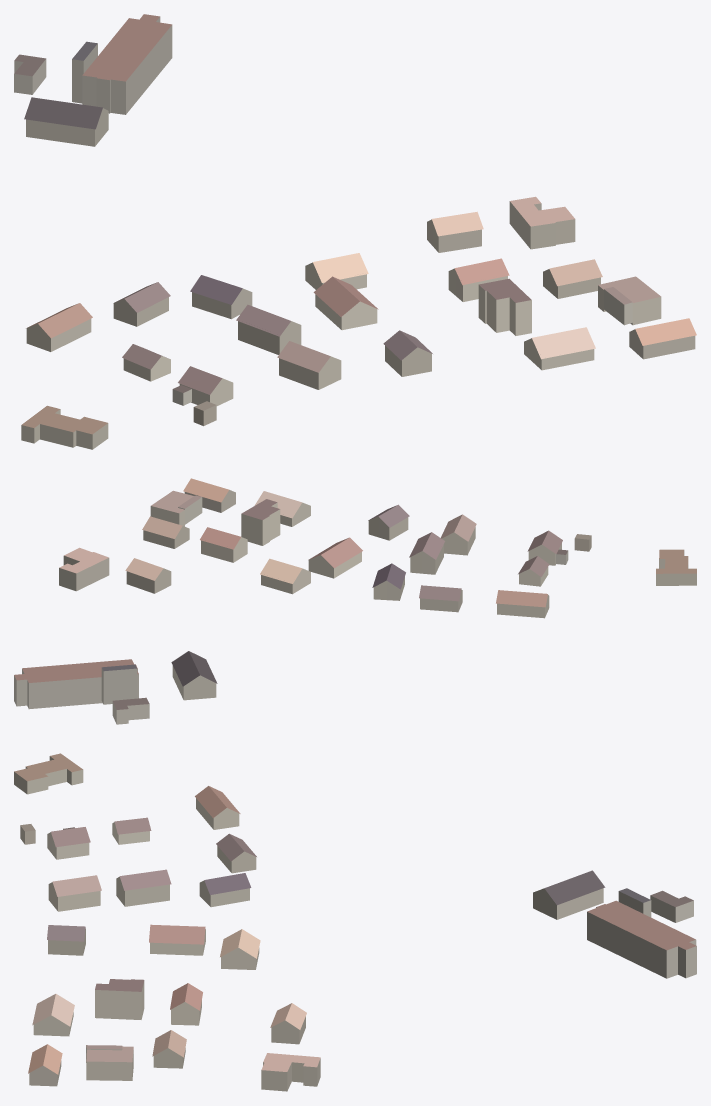
The picture shows the model from 3 angles, top to bottom: view 1: azimuth 30°, elevation 25°; view 2: azimuth 150°, elevation 25°; view 3: azimuth 270°, elevation 25°; orthographic projection. The views are drawn at different scales.
Visible parts, largest first — view 1: tuile; view 2: tuile; view 3: tuile.
Boxes of the visible parts, x1,y1,x2,y2 form: tuile: (14, 14, 696, 449); tuile: (14, 478, 696, 724); tuile: (14, 753, 696, 1091).
Bounding box in the file's own units: 205 × 28.69 × 210.
